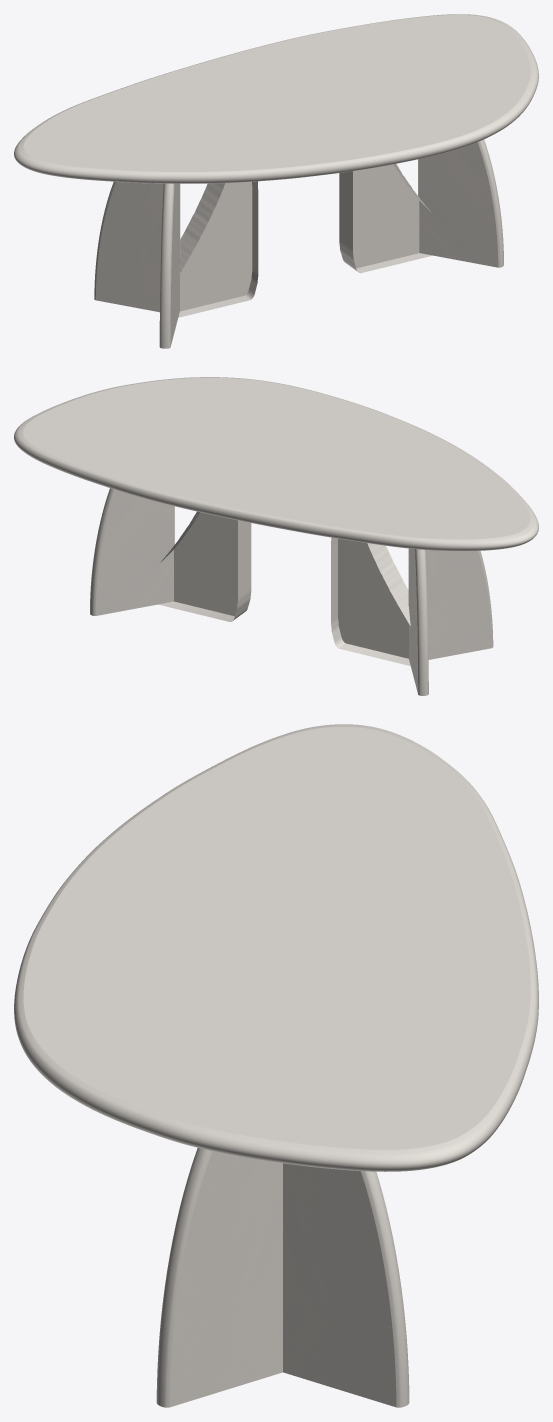
Rendered from pearlwhite_pebbletop_round_plane.glb.
3 renders of one model, top to bottom at view 1: azimuth 30°, elevation 25°; view 2: azimuth 150°, elevation 25°; view 3: azimuth 270°, elevation 25°, orthographic. The views are drawn at different scales.
Visible parts, largest first — view 1: round_pebbletop, plane_single1, plane_singleright2, plane_singleleft1, plane_single2, plane_singleright1; view 2: round_pebbletop, plane_singleleft2, plane_single1, plane_single2, plane_singleright1, plane_singleleft1; view 3: round_pebbletop, plane_singleright2, plane_singleleft2.
Part boxes in pixels (<box>): round_pebbletop: <box>14,14,538,183</box>; plane_single1: <box>178,181,258,317</box>; plane_singleright2: <box>418,139,503,267</box>; plane_singleleft1: <box>94,181,180,312</box>; plane_single2: <box>339,164,432,273</box>; plane_singleright1: <box>159,183,179,348</box>; round_pebbletop: <box>14,377,538,550</box>; plane_singleleft2: <box>90,488,174,615</box>; plane_single1: <box>331,537,410,665</box>; plane_single2: <box>158,511,251,621</box>; plane_singleright1: <box>408,549,493,659</box>; plane_singleleft1: <box>409,548,428,695</box>; round_pebbletop: <box>14,724,538,1171</box>; plane_singleright2: <box>156,1148,282,1407</box>; plane_singleleft2: <box>283,1163,409,1407</box>.
Bounding box in the file's own units: 7.5 × 2.5 × 3.8.
Materials: 1 (1 with a texture image).
